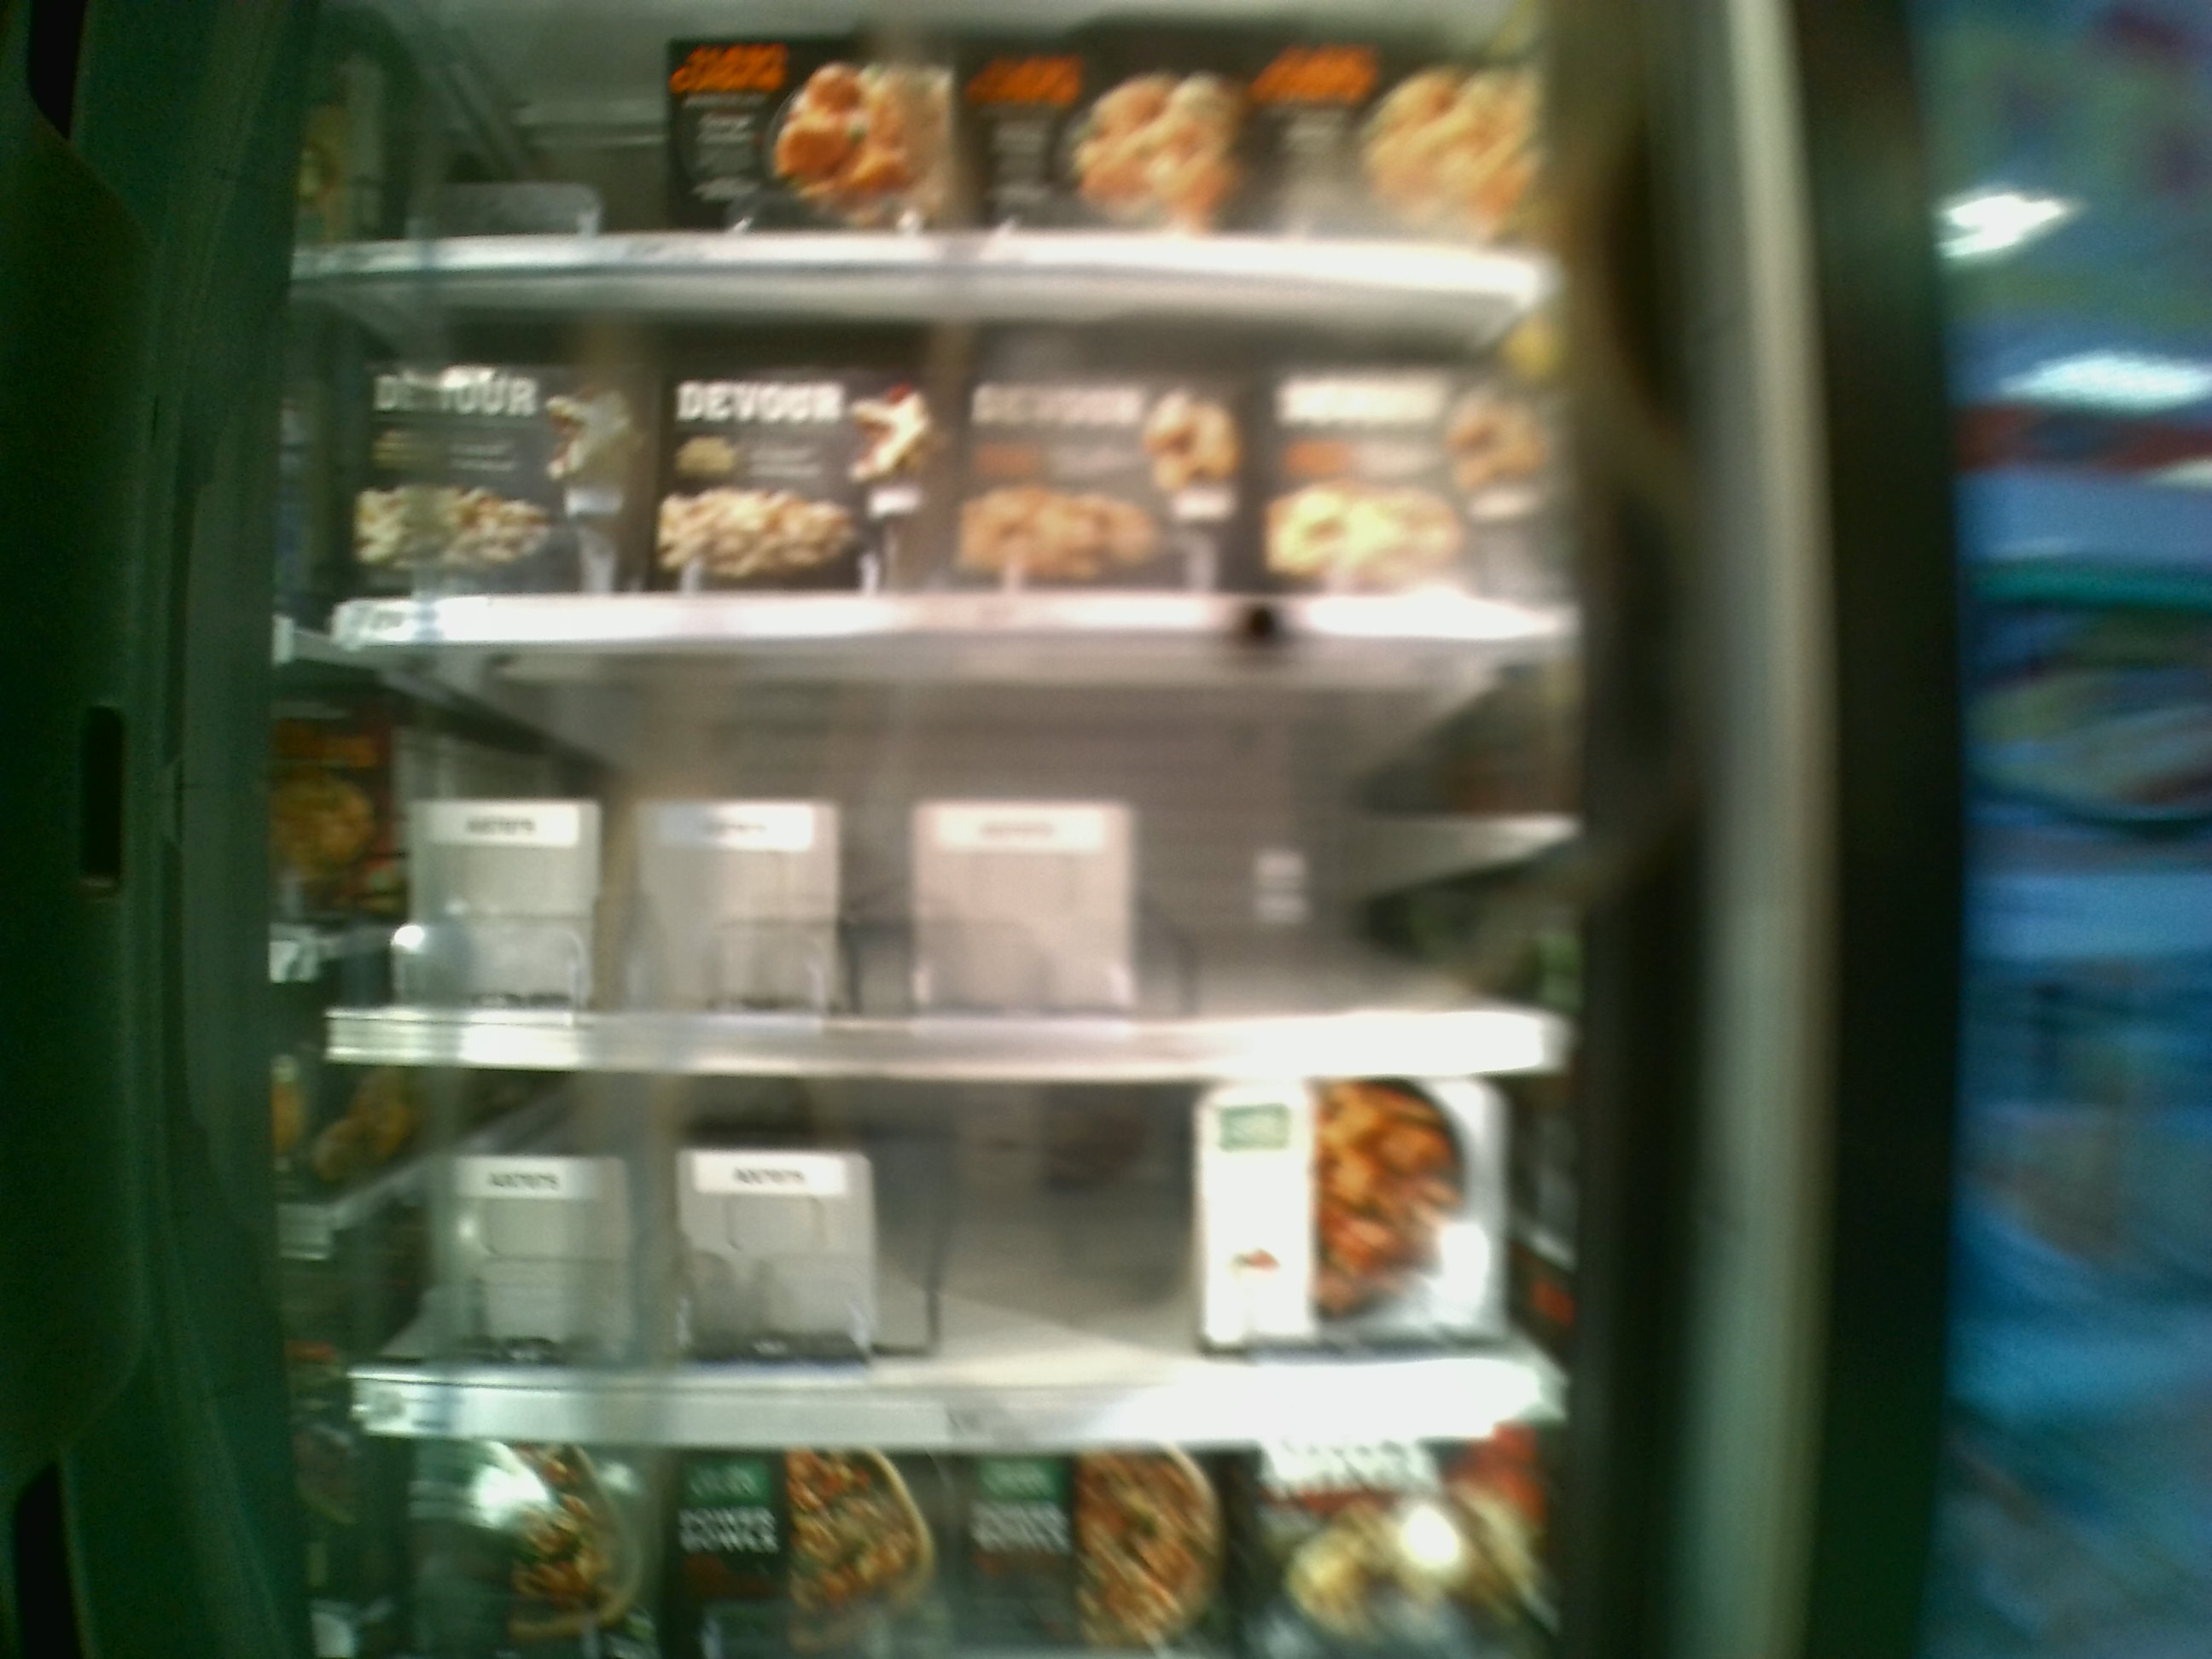Shelf: (326, 643, 1583, 1070), (320, 1060, 1569, 1446), (320, 275, 1576, 643)
